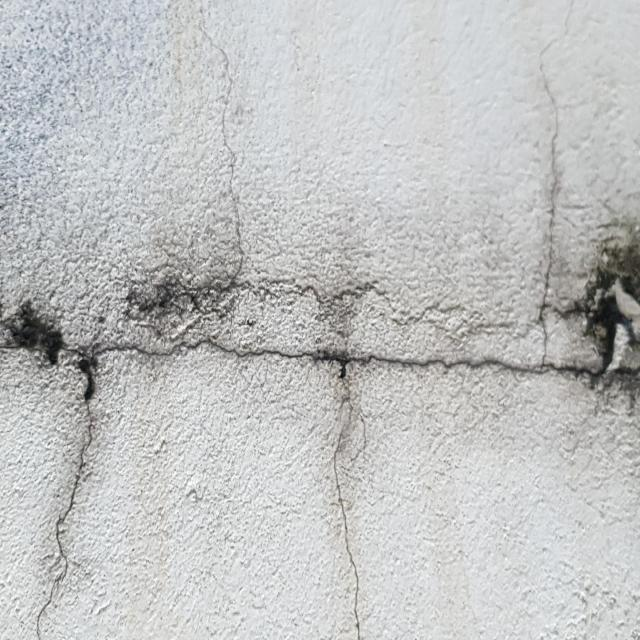SurfaceCrack: (191, 235, 414, 637), (2, 219, 122, 640)
